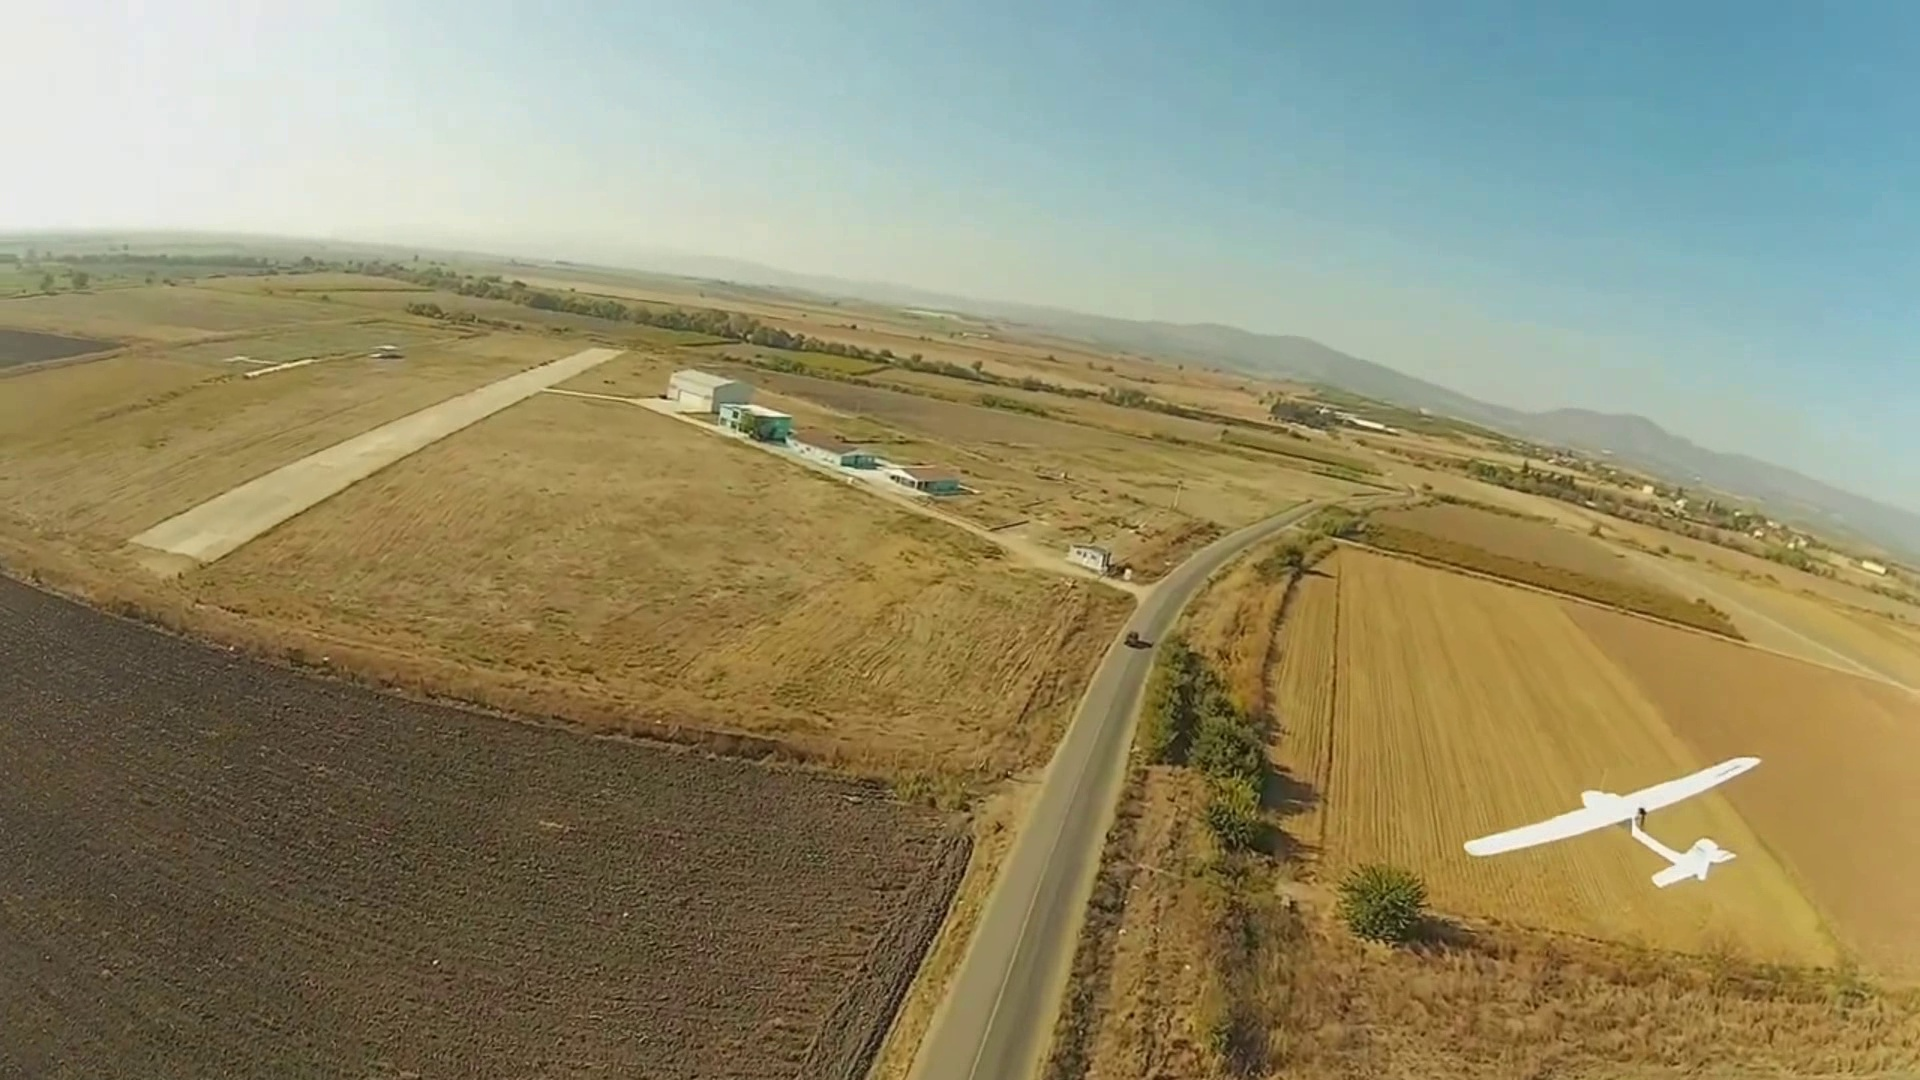airplane: (1462, 756, 1760, 885)
